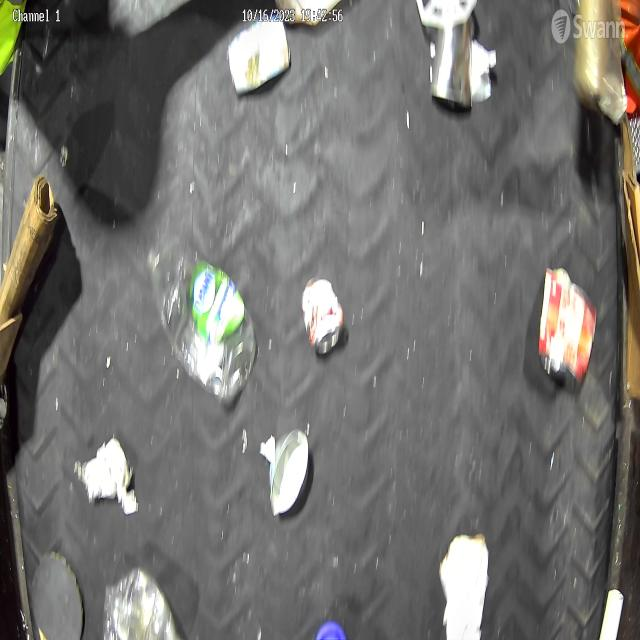can: (538, 264, 598, 390), (228, 12, 292, 94), (432, 4, 474, 110), (302, 272, 345, 357), (269, 426, 310, 515)
plastic_bottle: (145, 241, 257, 404)
